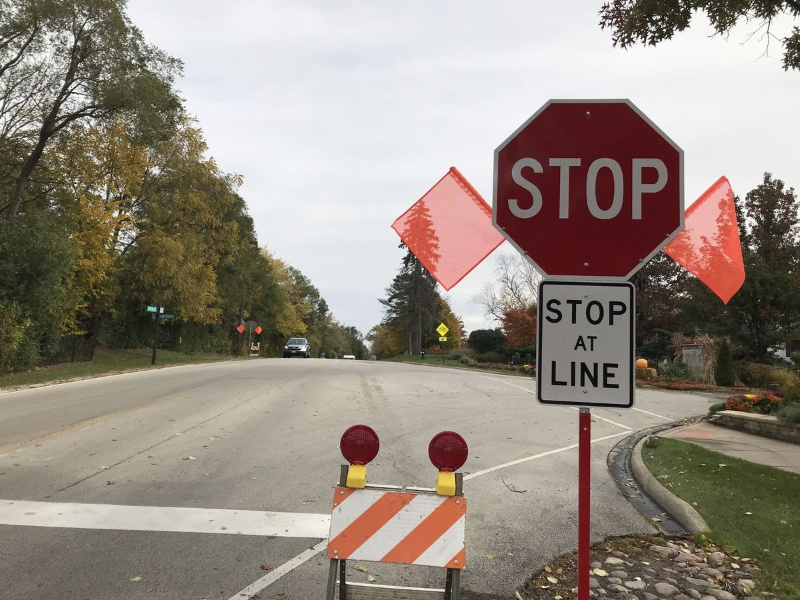stop sign: (489, 95, 691, 286)
